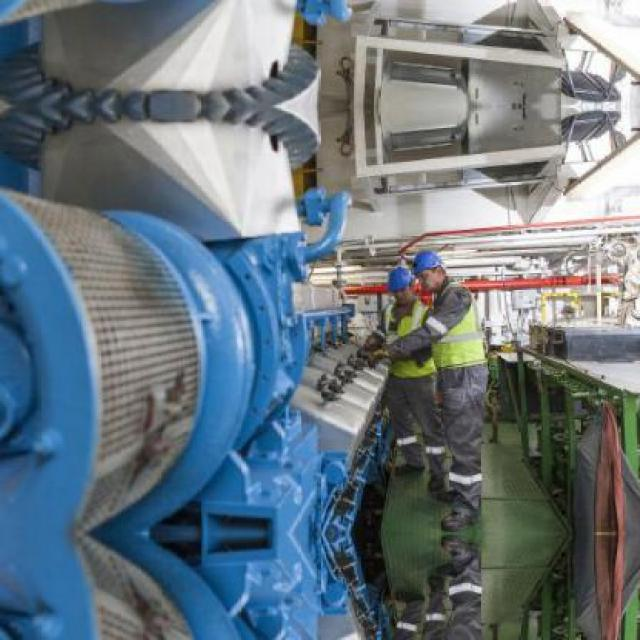Reflective-Jacket: (423, 282, 494, 380), (374, 298, 440, 387)
Safety-Helmet: (408, 247, 450, 279), (380, 264, 417, 298)
